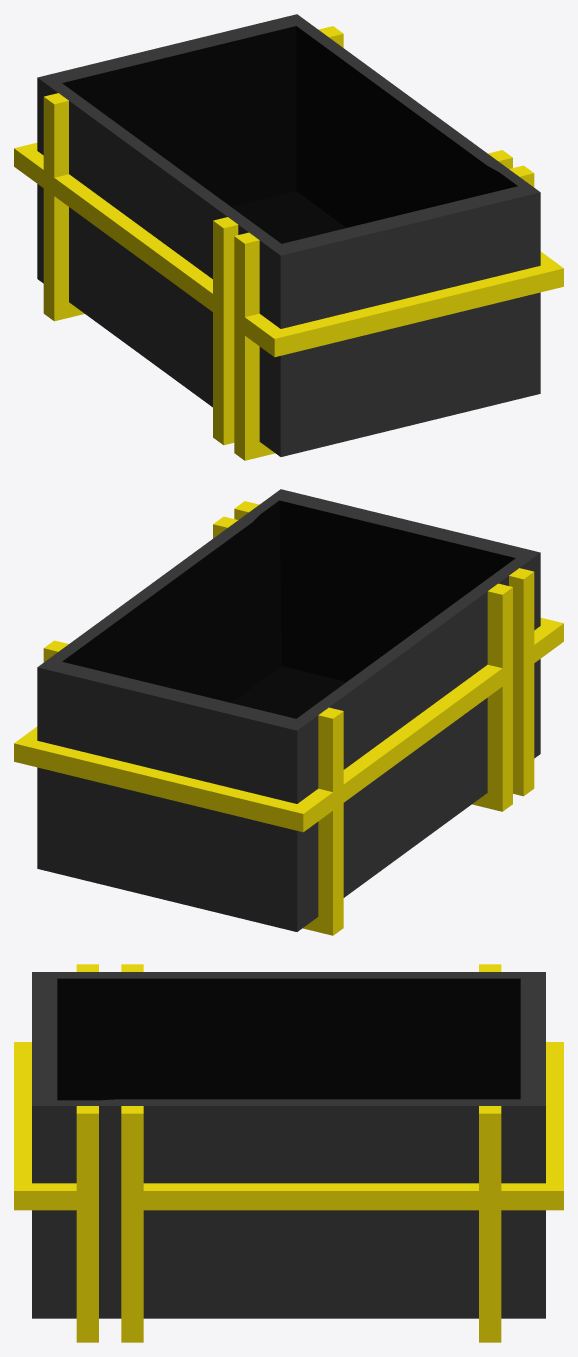
The model's file is база.obj.
The picture shows the model from 3 angles, top to bottom: view 1: azimuth 30°, elevation 25°; view 2: azimuth 150°, elevation 25°; view 3: azimuth 270°, elevation 25°; orthographic projection. The views are drawn at different scales.
Visible parts, largest first — view 1: Куб; view 2: Куб; view 3: Куб.
Part boxes in pixels (left/top/right/bottom): Куб: left=14, top=14, right=563, bottom=460; Куб: left=14, top=489, right=563, bottom=935; Куб: left=14, top=964, right=563, bottom=1342.
Size of the model in its own units: 3.71 by 2.66 by 5.79.
